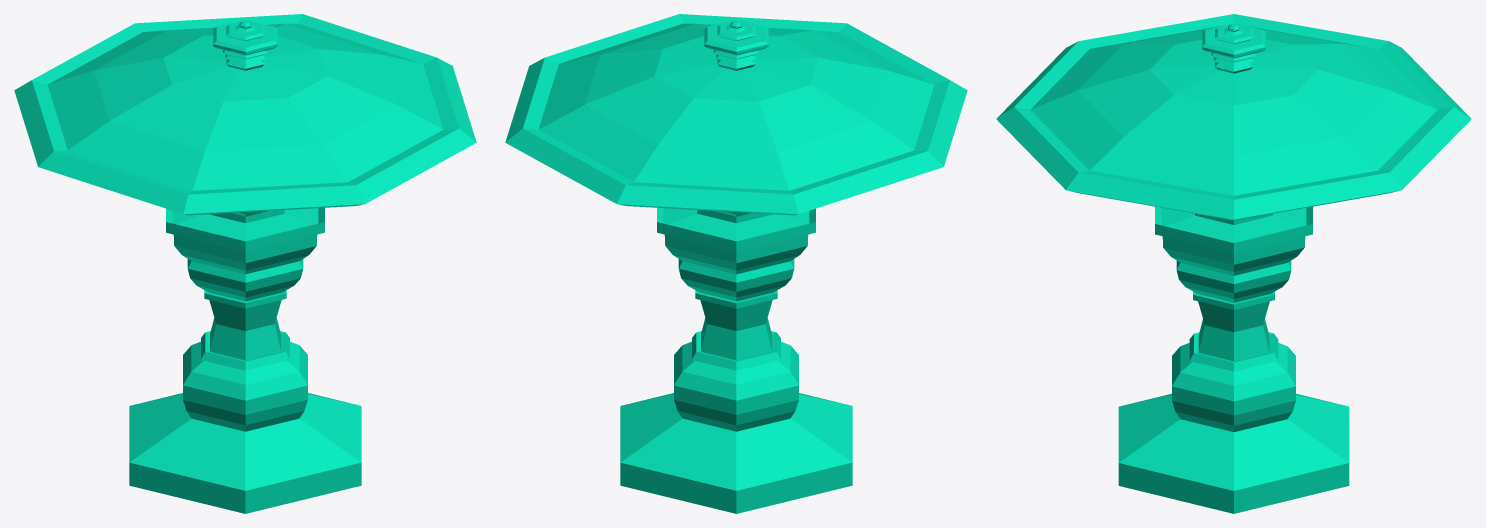
Rendered from GEO_air_shrine.fbx.
3 views of the same model, side by side, from view 1: azimuth 30°, elevation 25°; view 2: azimuth 150°, elevation 25°; view 3: azimuth 270°, elevation 25° (orthographic).
Parts seen in each view (by area): view 1: AirShrine; view 2: AirShrine; view 3: AirShrine.
Boxes of the visible parts, left/top/right/bottom form: AirShrine: left=14, top=14, right=476, bottom=513; AirShrine: left=505, top=14, right=967, bottom=513; AirShrine: left=996, top=14, right=1471, bottom=513.
Size of the model in its own units: 193 by 194 by 193.
